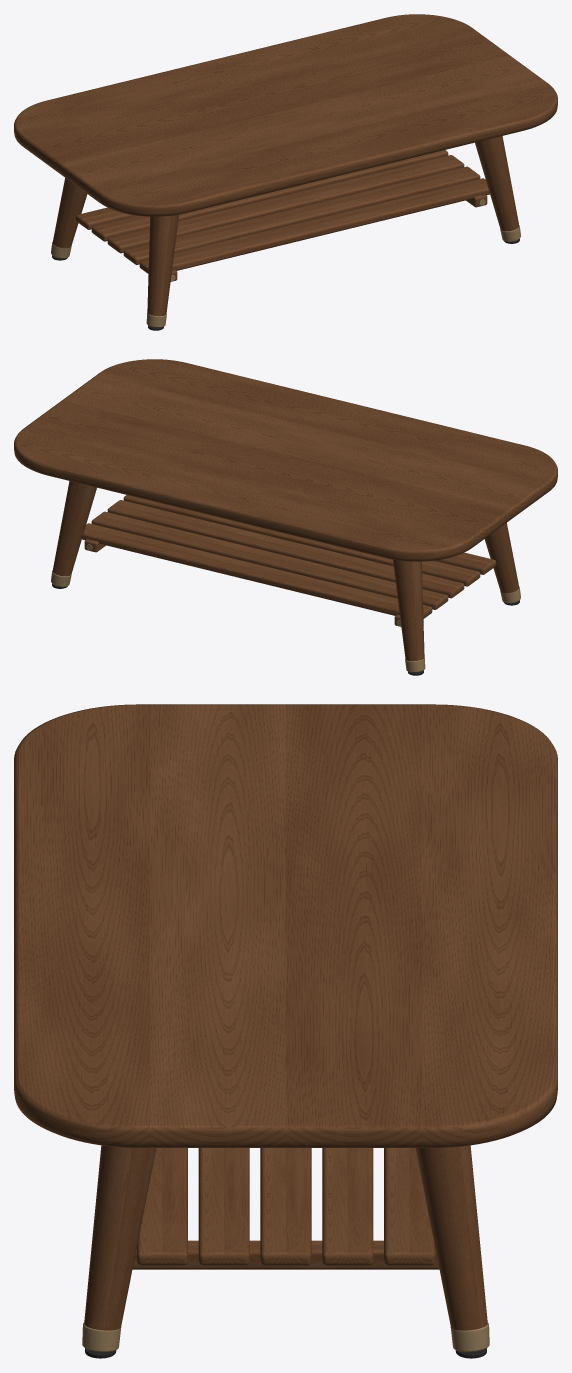
The picture shows the model from 3 angles, top to bottom: view 1: azimuth 30°, elevation 25°; view 2: azimuth 150°, elevation 25°; view 3: azimuth 270°, elevation 25°; orthographic projection. The views are drawn at different scales.
Parts seen in each view (by area): view 1: Walnut top | 1220 x 660 x 30 mm, Lower shelf slat 01, Lower shelf slat 02, Lower shelf slat 03, Lower shelf slat 04, Splayed turned walnut leg, Splayed turned walnut leg.002, Splayed turned walnut leg.001, Lower shelf slat 05; view 2: Walnut top | 1220 x 660 x 30 mm, Lower shelf slat 05, Lower shelf slat 04, Lower shelf slat 03, Lower shelf slat 02, Splayed turned walnut leg.001, Splayed turned walnut leg.003, Splayed turned walnut leg, Lower shelf slat 01; view 3: Walnut top | 1220 x 660 x 30 mm, Splayed turned walnut leg.002, Splayed turned walnut leg.003, Lower shelf slat 03, Lower shelf slat 02, Lower shelf slat 04, Lower shelf slat 01, Lower shelf slat 05, Lower shelf support bearer.001, Satin brass foot ferrule.002, Satin brass foot ferrule.003.
Part boxes in pixels (left/top/right/bottom): Walnut top | 1220 x 660 x 30 mm: left=14, top=14, right=557, bottom=216; Lower shelf slat 01: left=139, top=178, right=489, bottom=273; Lower shelf slat 02: left=123, top=166, right=480, bottom=264; Lower shelf slat 03: left=107, top=155, right=464, bottom=253; Lower shelf slat 04: left=91, top=150, right=448, bottom=241; Splayed turned walnut leg: left=147, top=214, right=178, bottom=316; Splayed turned walnut leg.002: left=475, top=136, right=519, bottom=231; Splayed turned walnut leg.001: left=52, top=178, right=87, bottom=248; Lower shelf slat 05: left=75, top=207, right=136, bottom=229; Walnut top | 1220 x 660 x 30 mm: left=14, top=359, right=557, bottom=561; Lower shelf slat 05: left=82, top=523, right=432, bottom=618; Lower shelf slat 04: left=91, top=511, right=448, bottom=609; Lower shelf slat 03: left=107, top=500, right=464, bottom=598; Lower shelf slat 02: left=123, top=495, right=480, bottom=586; Splayed turned walnut leg.001: left=393, top=559, right=424, bottom=661; Splayed turned walnut leg.003: left=52, top=481, right=96, bottom=576; Splayed turned walnut leg: left=484, top=523, right=519, bottom=593; Lower shelf slat 01: left=435, top=552, right=496, bottom=574; Walnut top | 1220 x 660 x 30 mm: left=14, top=704, right=557, bottom=1147; Splayed turned walnut leg.002: left=84, top=1145, right=156, bottom=1330; Splayed turned walnut leg.003: left=415, top=1145, right=487, bottom=1330; Lower shelf slat 03: left=260, top=1148, right=311, bottom=1265; Lower shelf slat 02: left=198, top=1148, right=249, bottom=1265; Lower shelf slat 04: left=322, top=1148, right=373, bottom=1265; Lower shelf slat 01: left=136, top=1148, right=187, bottom=1265; Lower shelf slat 05: left=384, top=1148, right=435, bottom=1265; Lower shelf support bearer.001: left=132, top=1240, right=439, bottom=1269; Satin brass foot ferrule.002: left=82, top=1322, right=121, bottom=1351; Satin brass foot ferrule.003: left=450, top=1322, right=489, bottom=1351.
Bounding box in the file's own units: 1.22 × 0.36 × 0.66.
Materials: 6 (2 with a texture image).
